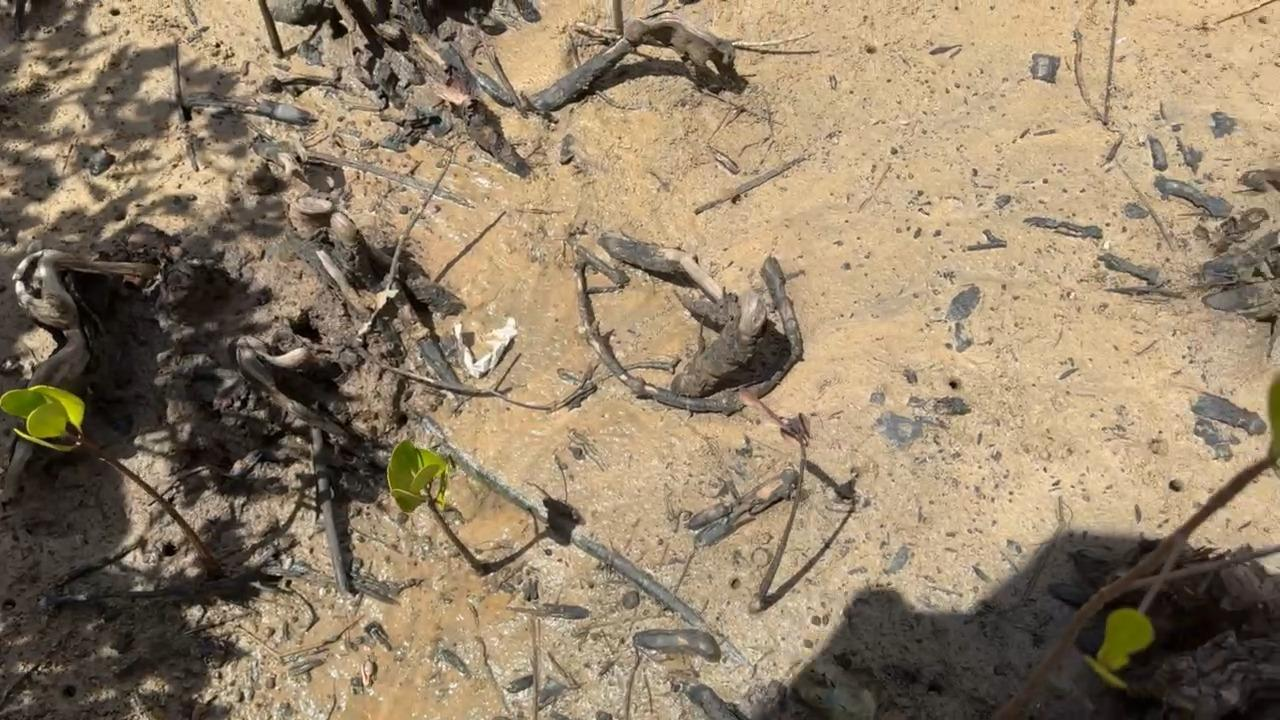Tree: (0, 386, 220, 579), (388, 438, 484, 576)
